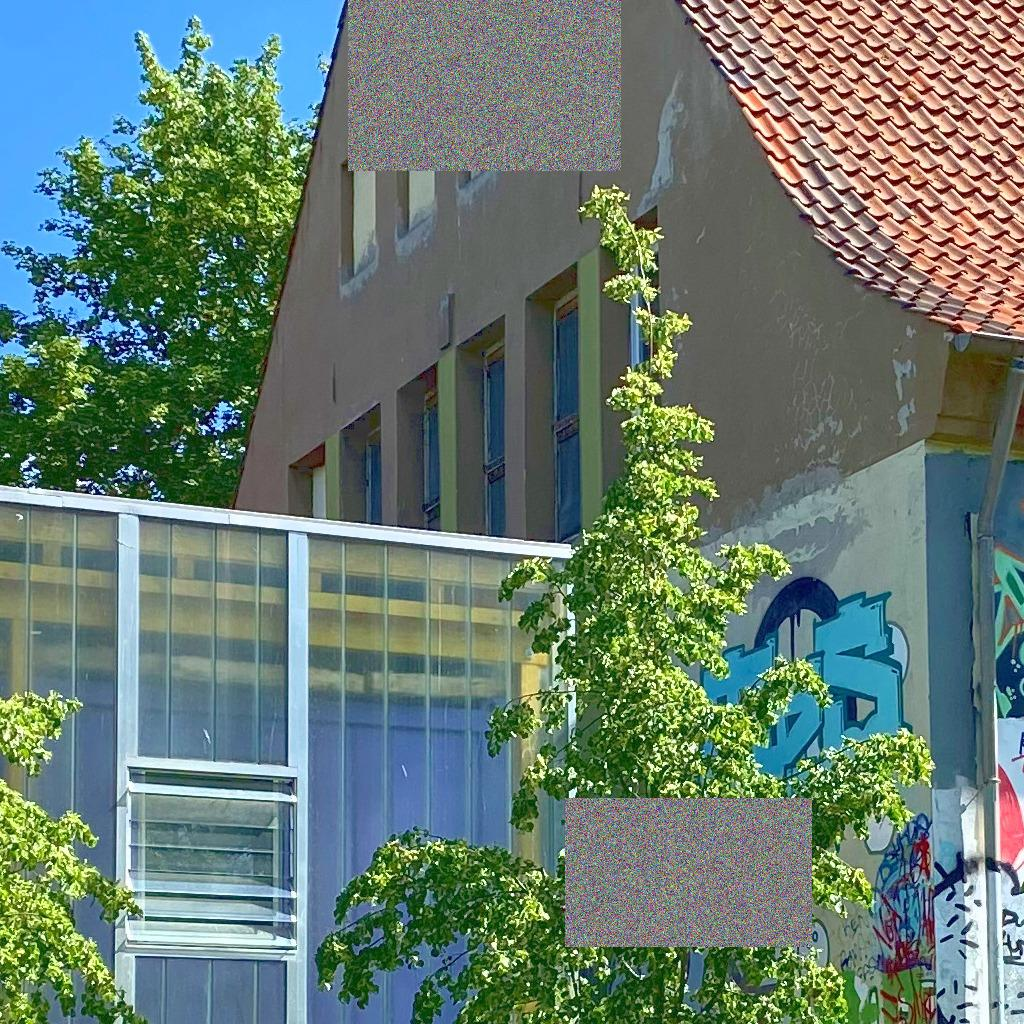tree: (315, 183, 936, 1023), (1, 13, 330, 509), (1, 690, 143, 1023)
